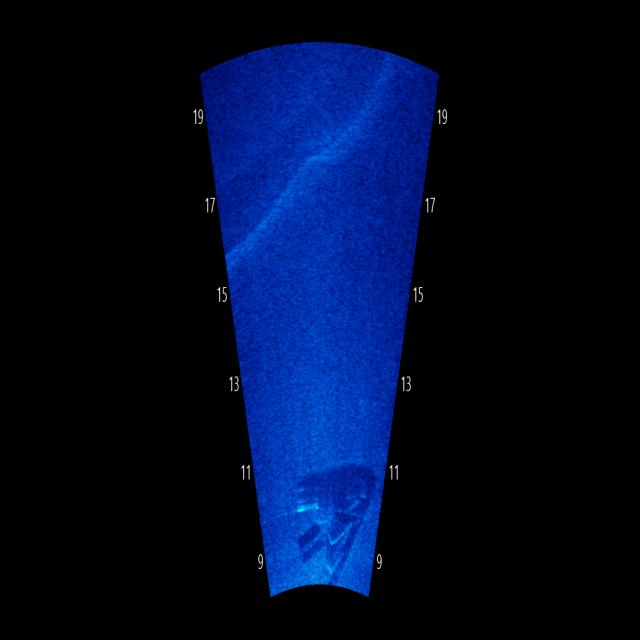triangle: (284, 409, 379, 570)
